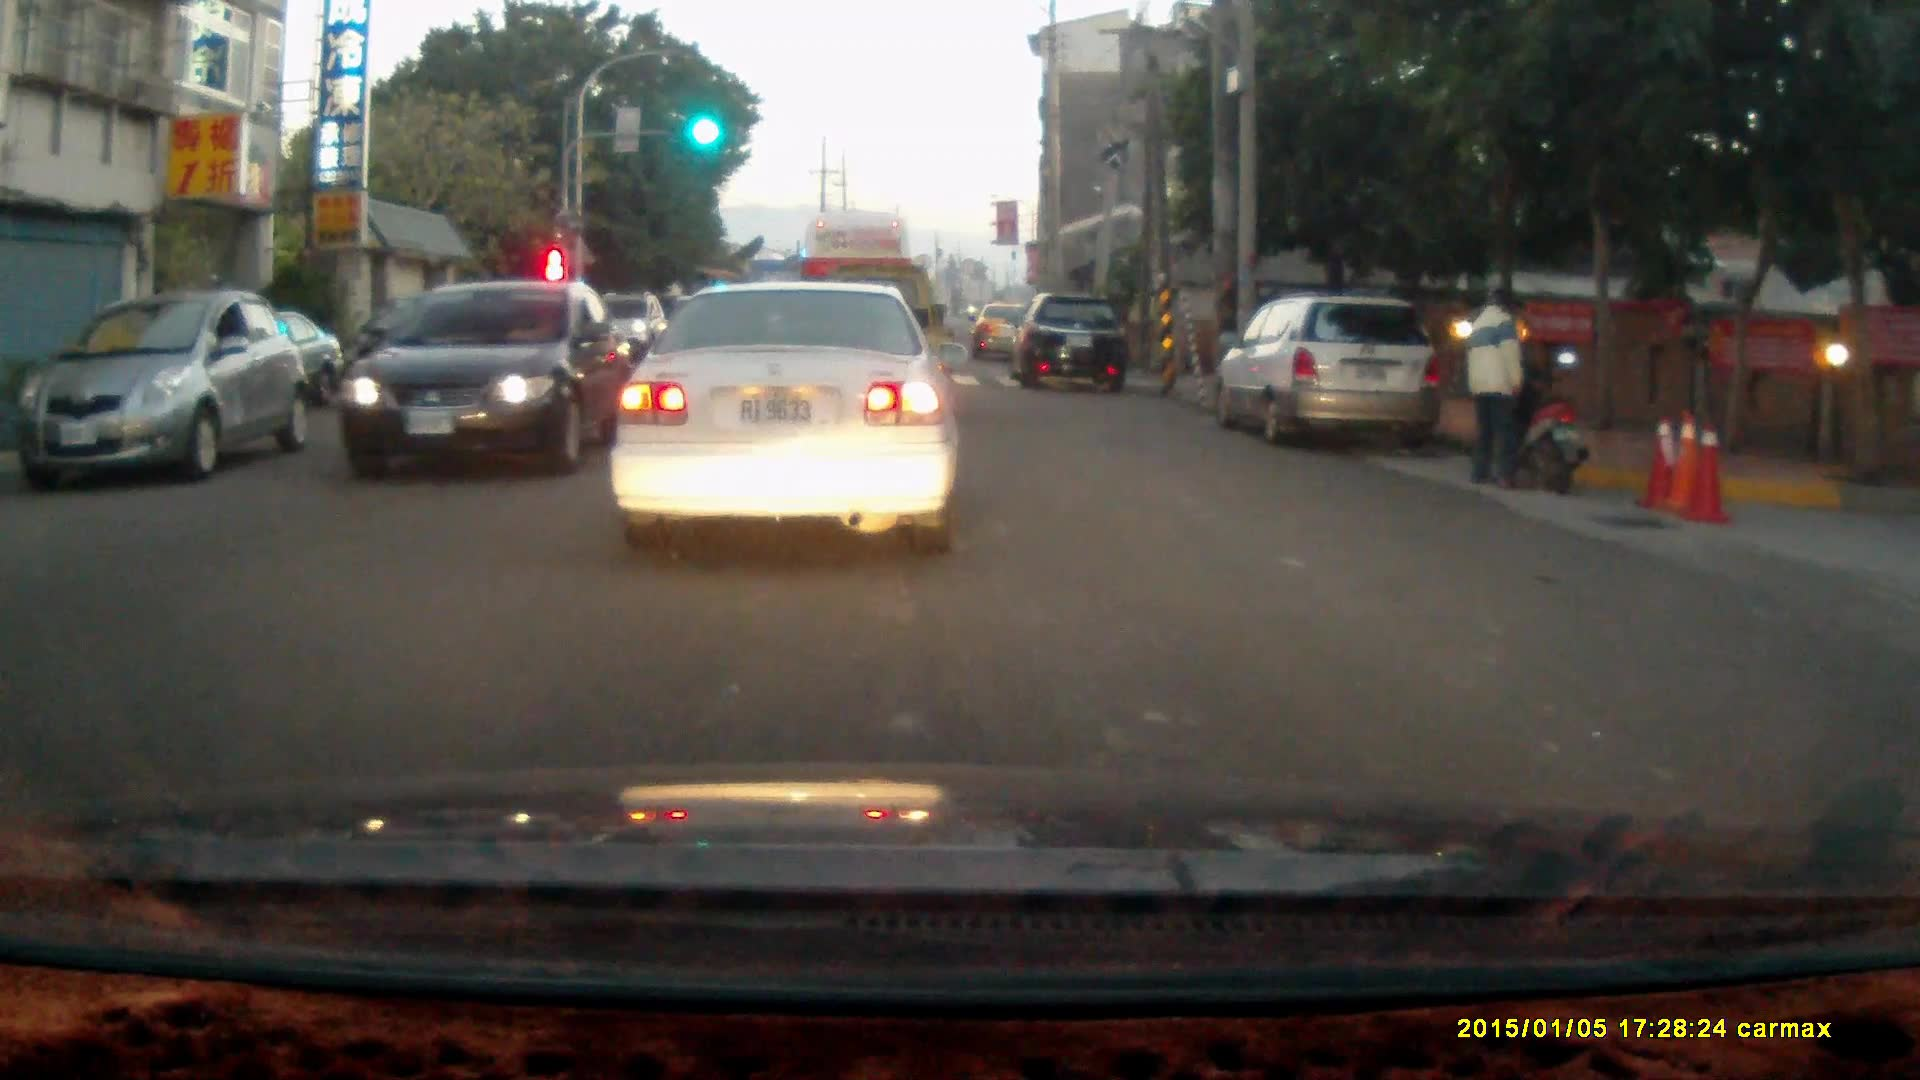pedestrian: (1462, 283, 1531, 490)
vehicle: (612, 273, 963, 549), (343, 278, 639, 478), (21, 292, 310, 482), (1226, 297, 1444, 453), (800, 208, 917, 378), (1016, 290, 1140, 395)
